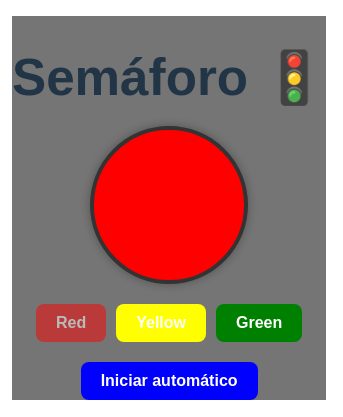
Semaforo Component › botón automático alterna el estado
// primera vez → activa automático
Click the button "Iniciar automático": x=169, y=381 [81,362,258,400]
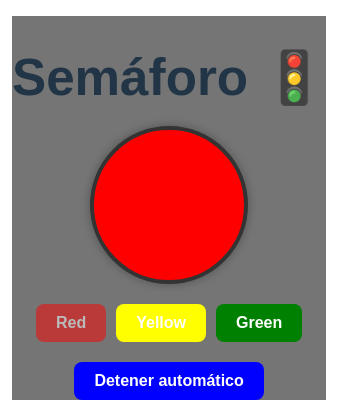
Check: the button "Detener automático" is shown
// segunda vez → desactiva automático
Click the button "Detener automático": x=169, y=381 [74,362,264,400]
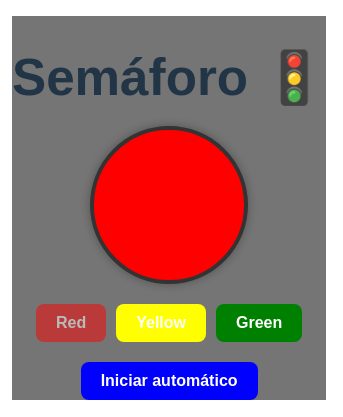
Check: the button "Iniciar automático" is shown, box [81,362,258,400]
